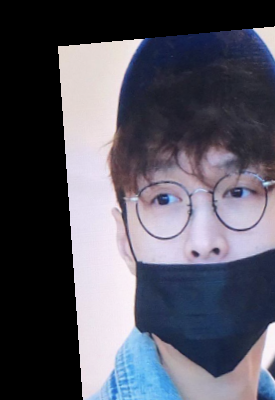mask_weared_incorrect: (98, 40, 275, 387)
